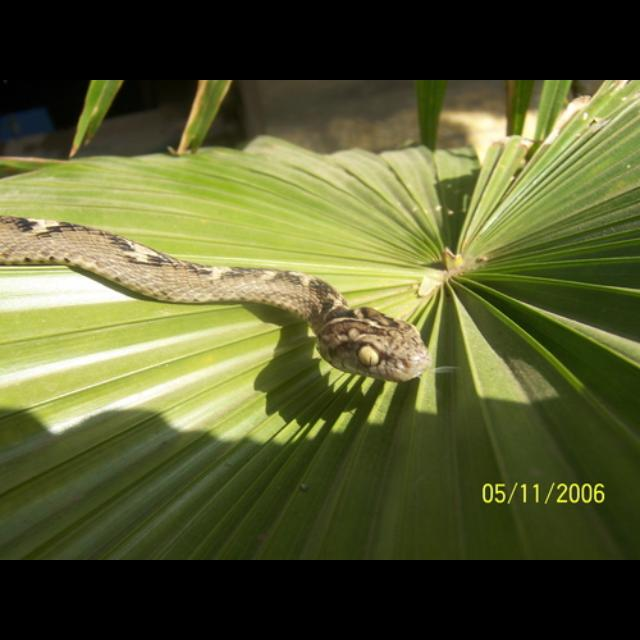snake: (0, 189, 444, 399)
